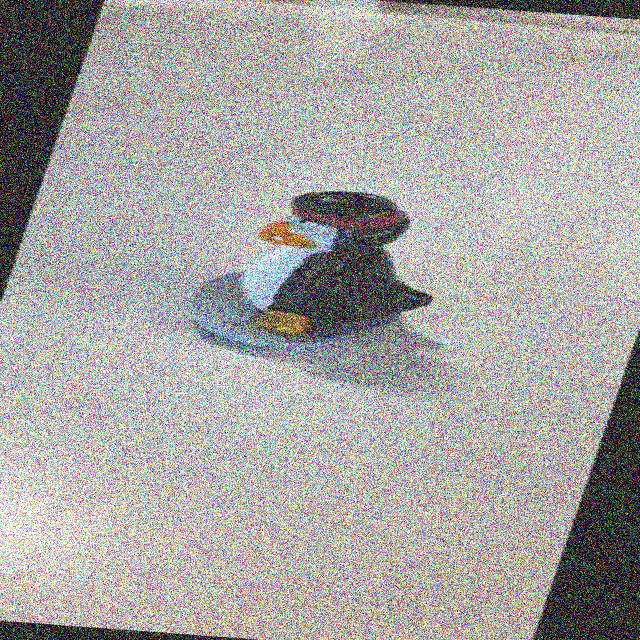Penguin: (152, 156, 497, 375)
